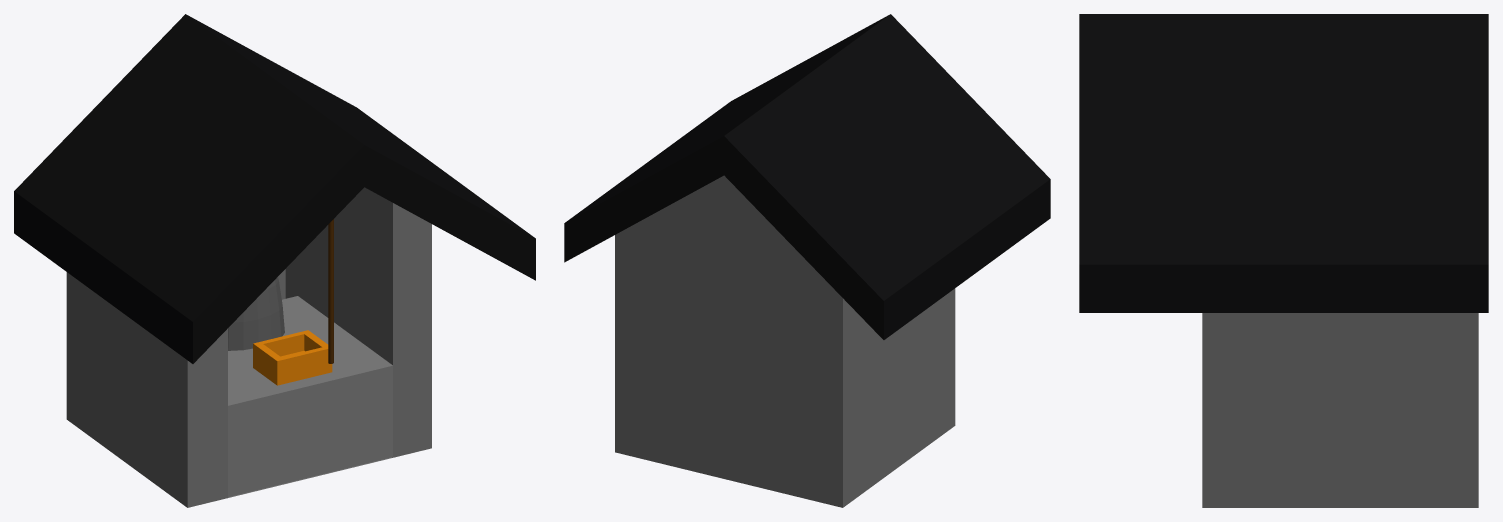
The picture shows the model from 3 angles, left to right: view 1: azimuth 30°, elevation 25°; view 2: azimuth 150°, elevation 25°; view 3: azimuth 270°, elevation 25°; orthographic projection. The views are drawn at different scales.
Visible parts, largest first — view 1: 立方体.002, 立方体.001, 立方体, 立方体.003, 球.001, 円柱; view 2: 立方体.001, 立方体.002; view 3: 立方体.002, 立方体.001.
Boxes of the visible parts, left/top/right/bottom form: 立方体.002: left=14, top=14, right=535, bottom=363; 立方体.001: left=66, top=187, right=431, bottom=507; 立方体: left=228, top=296, right=392, bottom=496; 立方体.003: left=253, top=330, right=332, bottom=385; 球.001: left=228, top=277, right=284, bottom=350; 円柱: left=328, top=219, right=333, bottom=363; 立方体.001: left=615, top=175, right=955, bottom=507; 立方体.002: left=564, top=14, right=1050, bottom=339; 立方体.002: left=1079, top=14, right=1488, bottom=312; 立方体.001: left=1202, top=313, right=1478, bottom=507.
Bounding box in the file's own units: 415 × 431 × 376.
